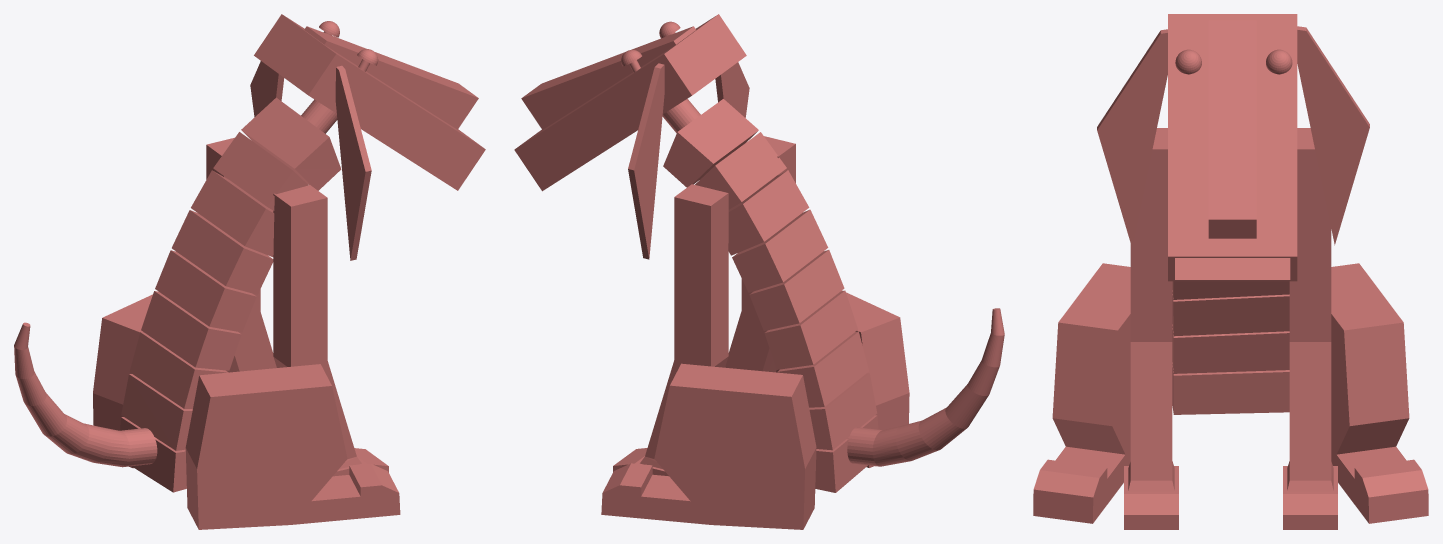
The model's file is chien.glb.
The picture shows the model from 3 angles, left to right: view 1: azimuth 30°, elevation 25°; view 2: azimuth 150°, elevation 25°; view 3: azimuth 270°, elevation 25°; orthographic projection. The views are drawn at different scales.
Parts seen in each view (by area): view 1: BezierCurve; view 2: BezierCurve; view 3: BezierCurve.
Boxes of the visible parts, left/top/right/bottom form: BezierCurve: left=14, top=14, right=485, bottom=529; BezierCurve: left=514, top=14, right=1004, bottom=529; BezierCurve: left=1033, top=14, right=1428, bottom=529.
Bounding box in the file's own units: 2.82 × 2.45 × 1.76.
